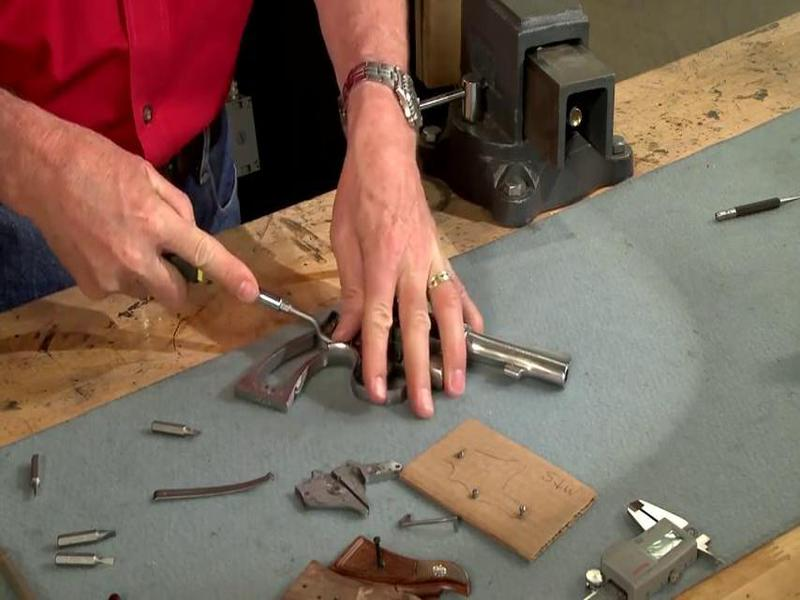Revolver: (233, 277, 587, 455)
